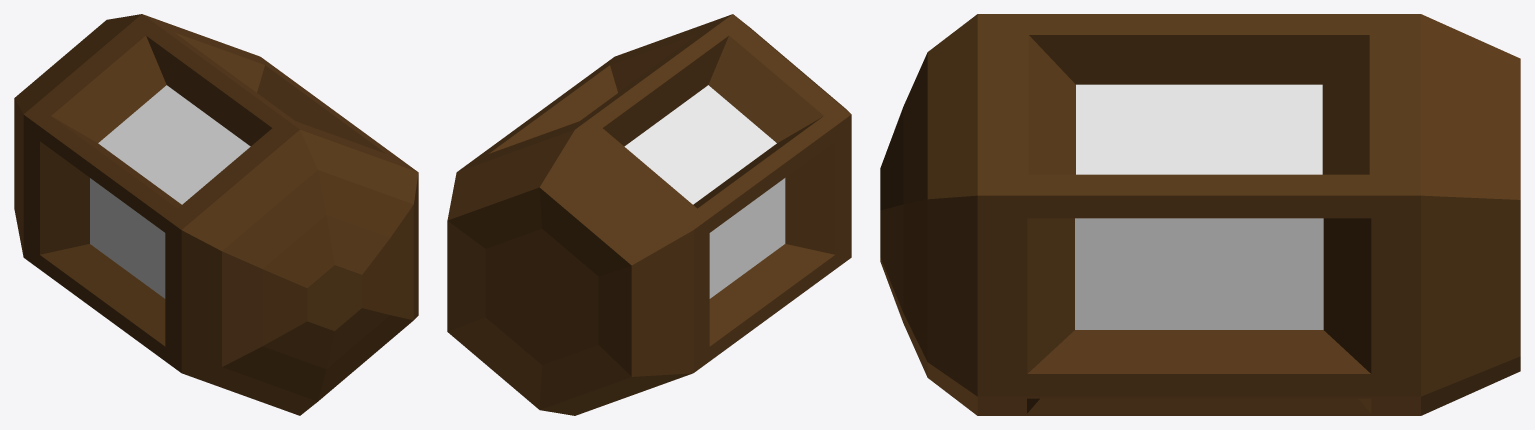
File: F_Lamp_B.fbx
3 views of the same model, side by side, from view 1: azimuth 30°, elevation 25°; view 2: azimuth 150°, elevation 25°; view 3: azimuth 270°, elevation 25° (orthographic). The views are drawn at different scales.
Parts seen in each view (by area): view 1: F_Lamp_B; view 2: F_Lamp_B; view 3: F_Lamp_B.
Boxes of the visible parts, <box> form: F_Lamp_B: <box>14,14,418,415</box>; F_Lamp_B: <box>447,14,851,415</box>; F_Lamp_B: <box>880,14,1520,415</box>.
Size of the model in its own units: 32.35 by 37.35 by 53.93.
